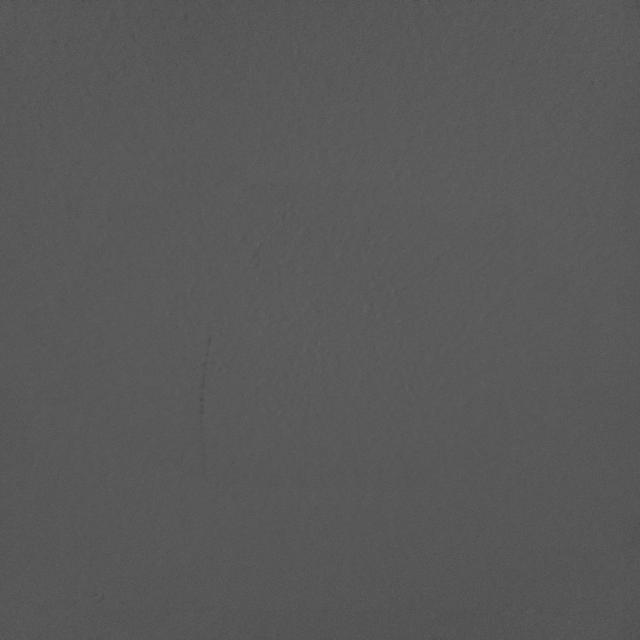rough and patchy surface: (13, 5, 633, 631)
